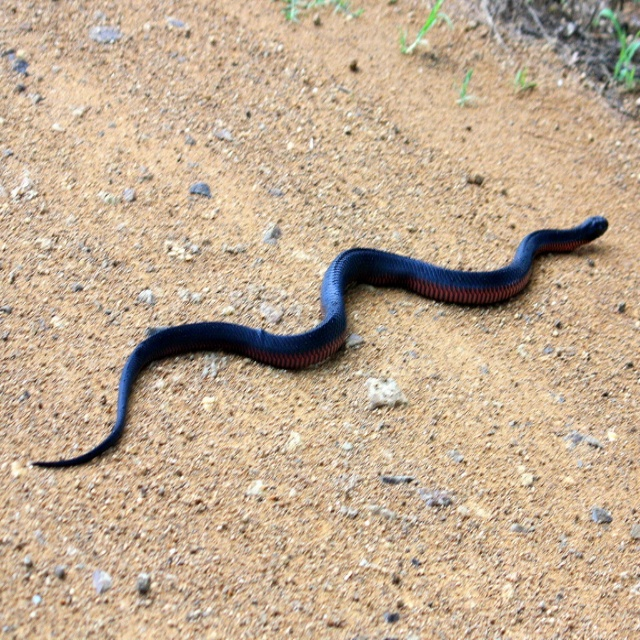Snake: (29, 215, 609, 466)
